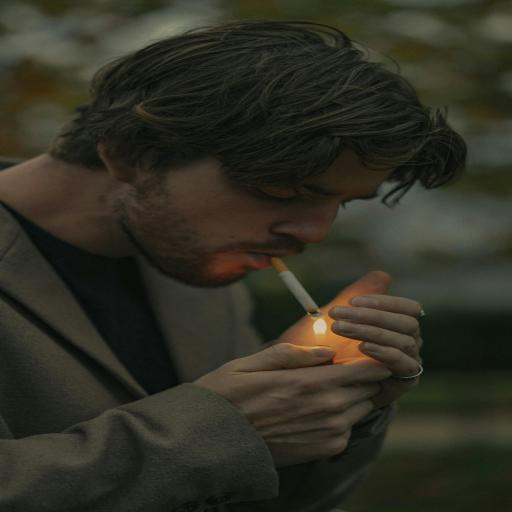terdeteksi merokok: (182, 181, 367, 343)
